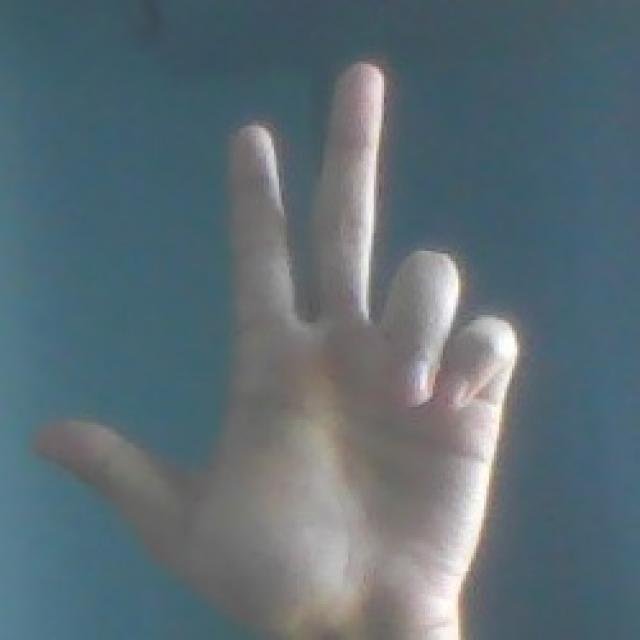Numeric-3: (33, 61, 513, 623)
